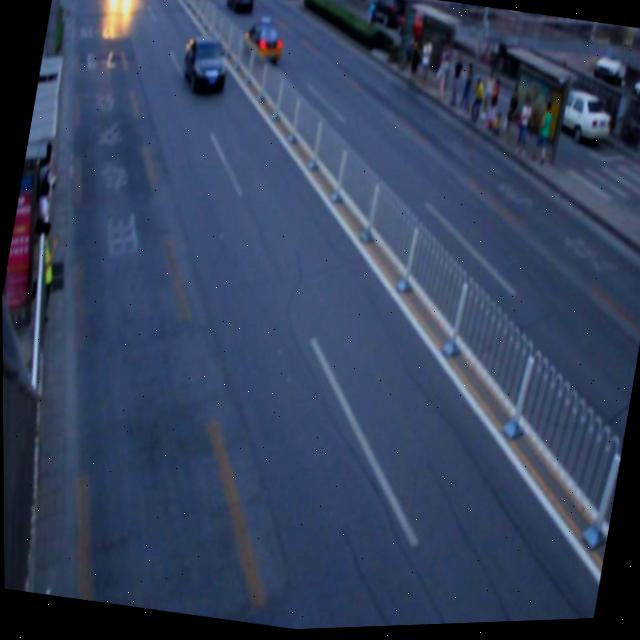car: (178, 32, 233, 99), (237, 20, 286, 72), (223, 0, 256, 20)
